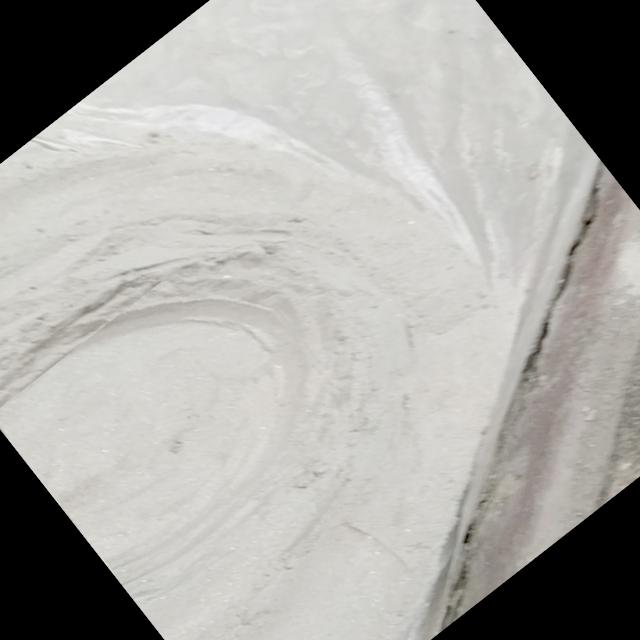C40: (0, 299, 306, 570)
